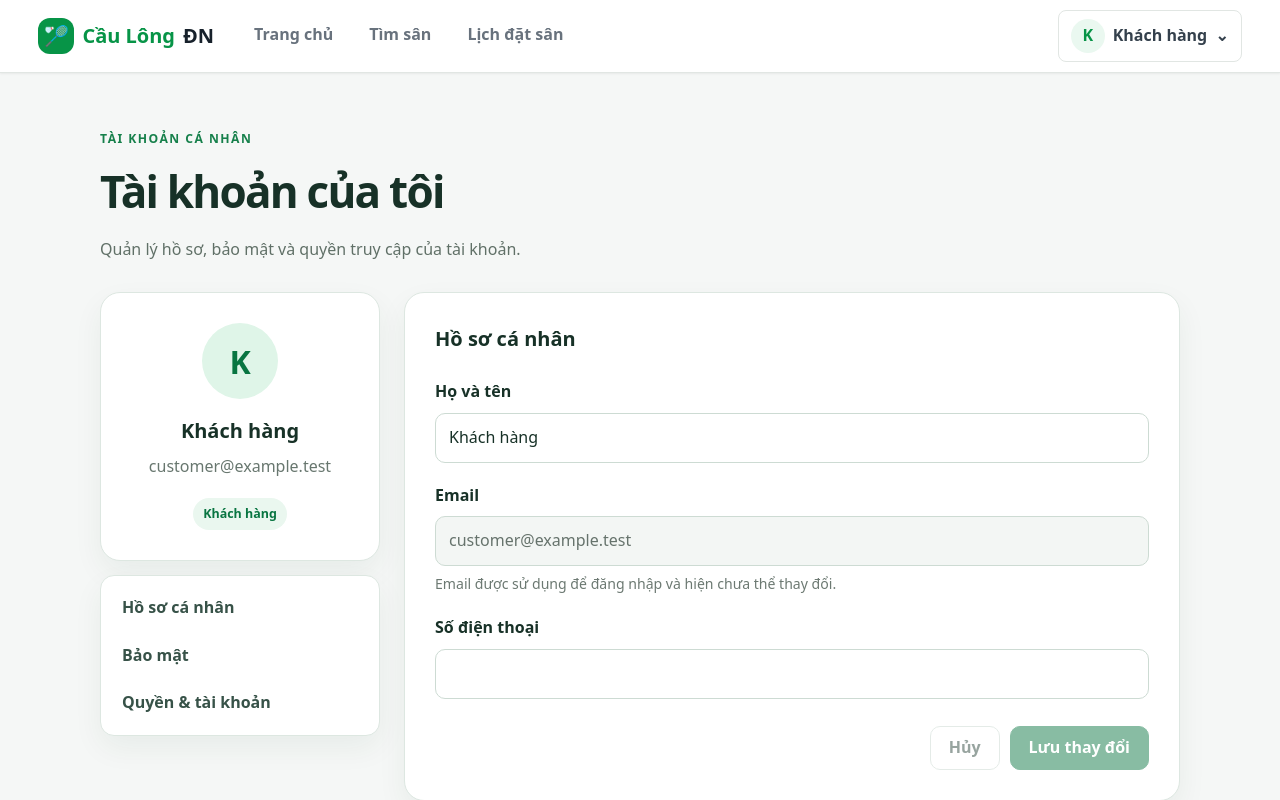
Test: malformed 2xx mutation fails closed and recovers authoritative state
Step 1. Replace the text in the field labelled "Họ và tên" with "Attempt" → (792, 438), box [435,413,1149,463]
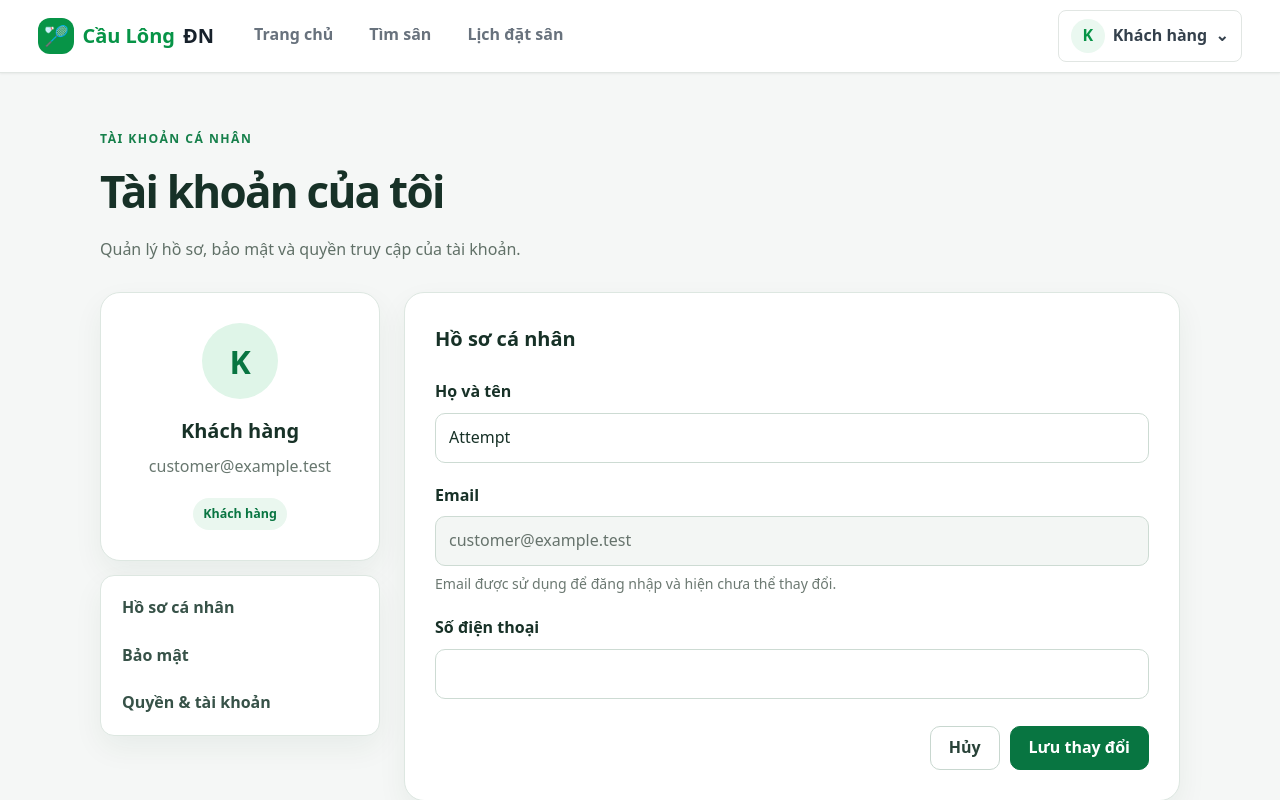
Step 2. Click the button "Lưu thay đổi" → (1079, 748), box [1010,726,1149,770]
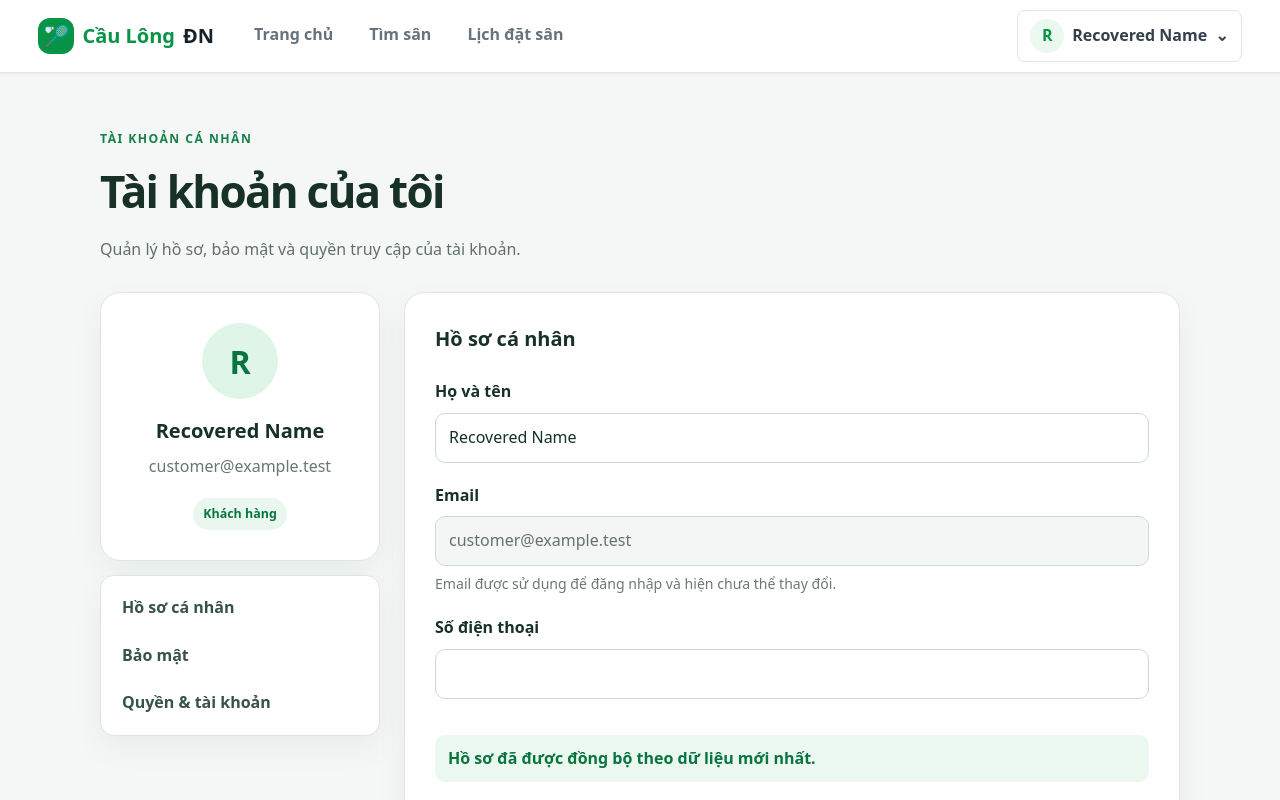
expect the text "Hồ sơ đã được đồng bộ theo dữ liệu mới nhất." is shown: met, box [435,734,1149,782]
expect the field showing "Recovered Name" is shown: met, box [435,413,1149,463]
